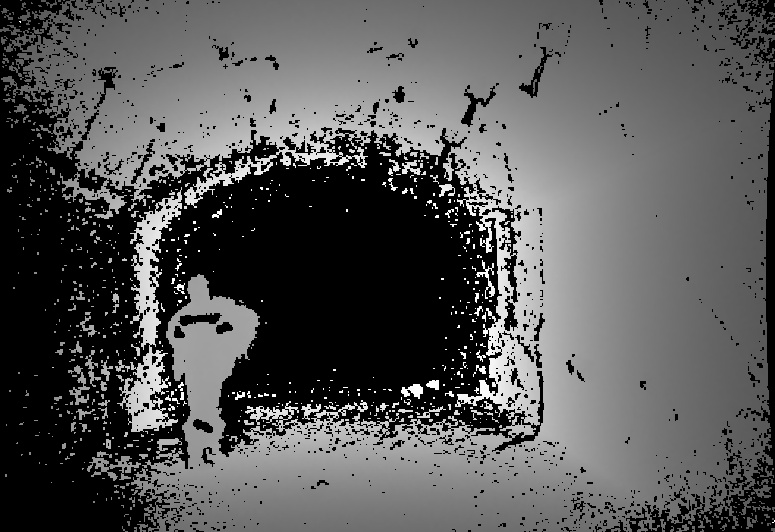person: (165, 273, 260, 468)
